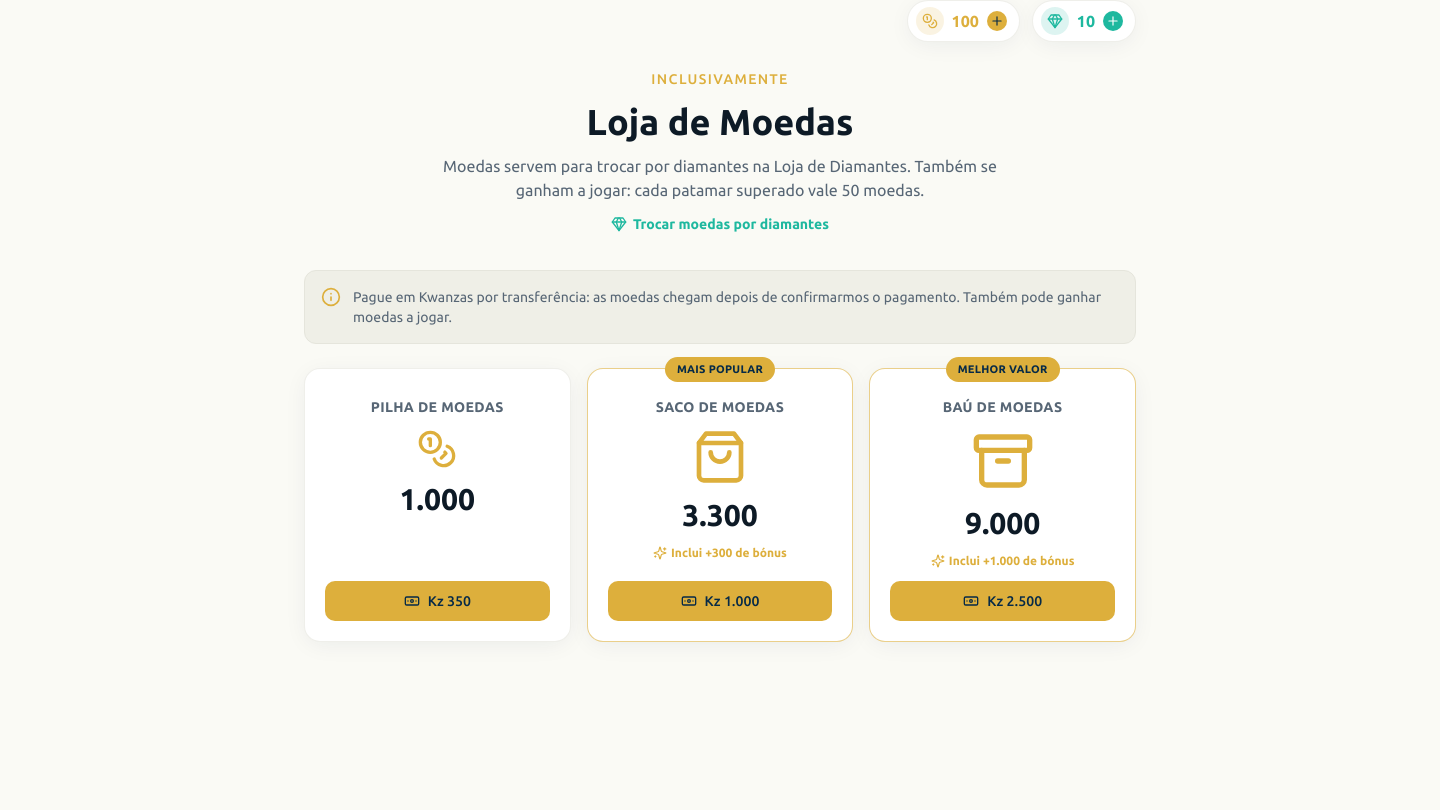
LojaMoedas › cancelar fecha o diálogo sem pedir nada
This screenshot has width=1440, height=810.
Click the button with aria-label "Comprar 1.000 moedas": click(437, 601) [325,581,550,621]
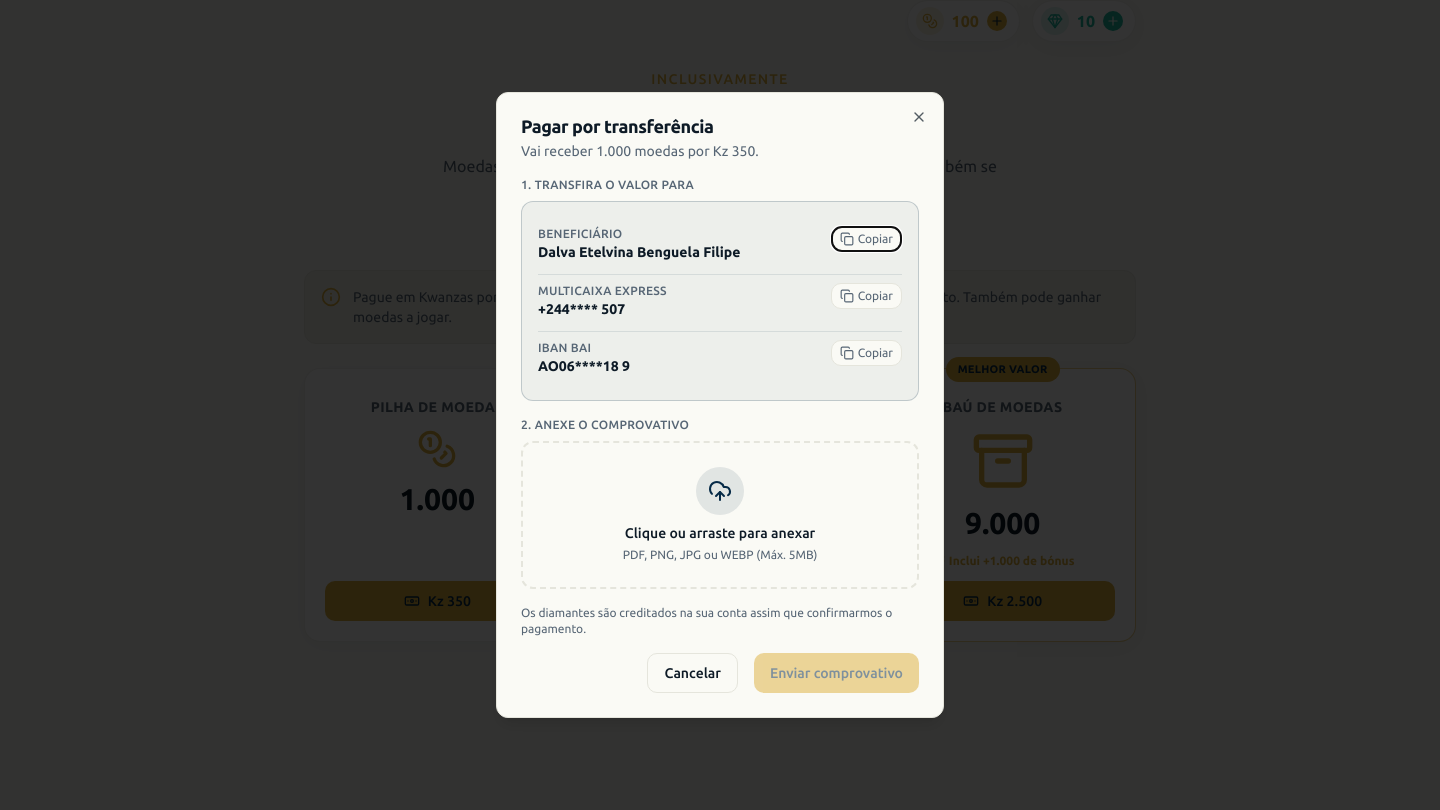
Click the button "Cancelar": click(693, 673) [648,653,738,693]
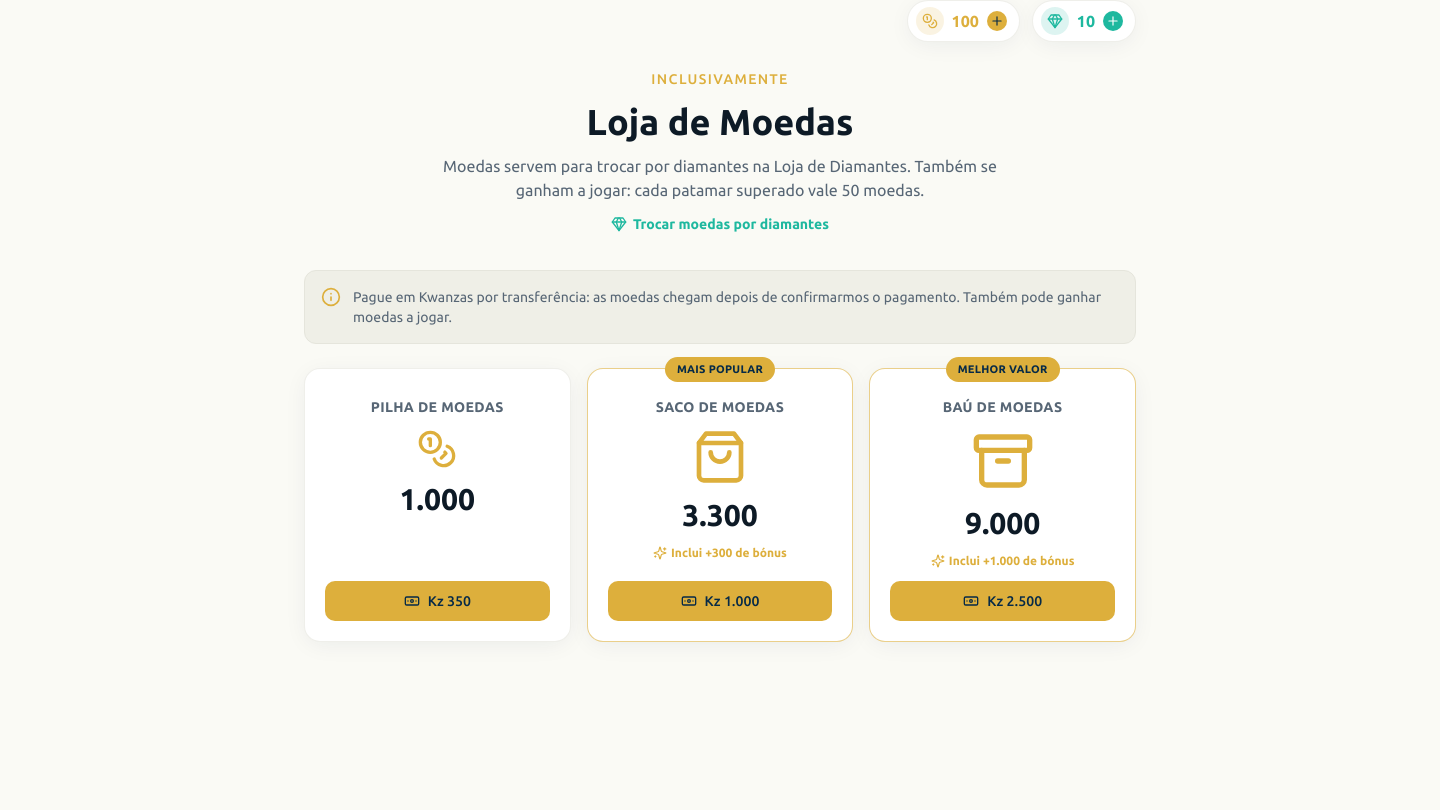
Expected: the dialog is gone
